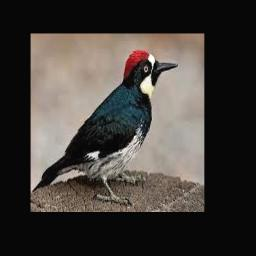Woodpecker: (33, 50, 179, 203)
